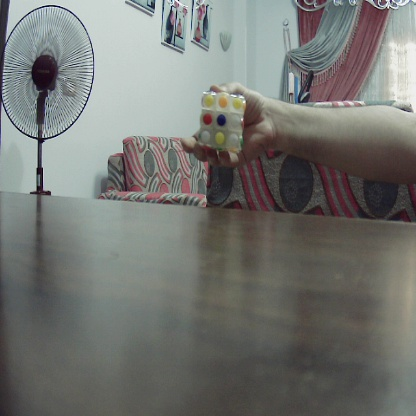Rubix Cube: (198, 93, 246, 152)
